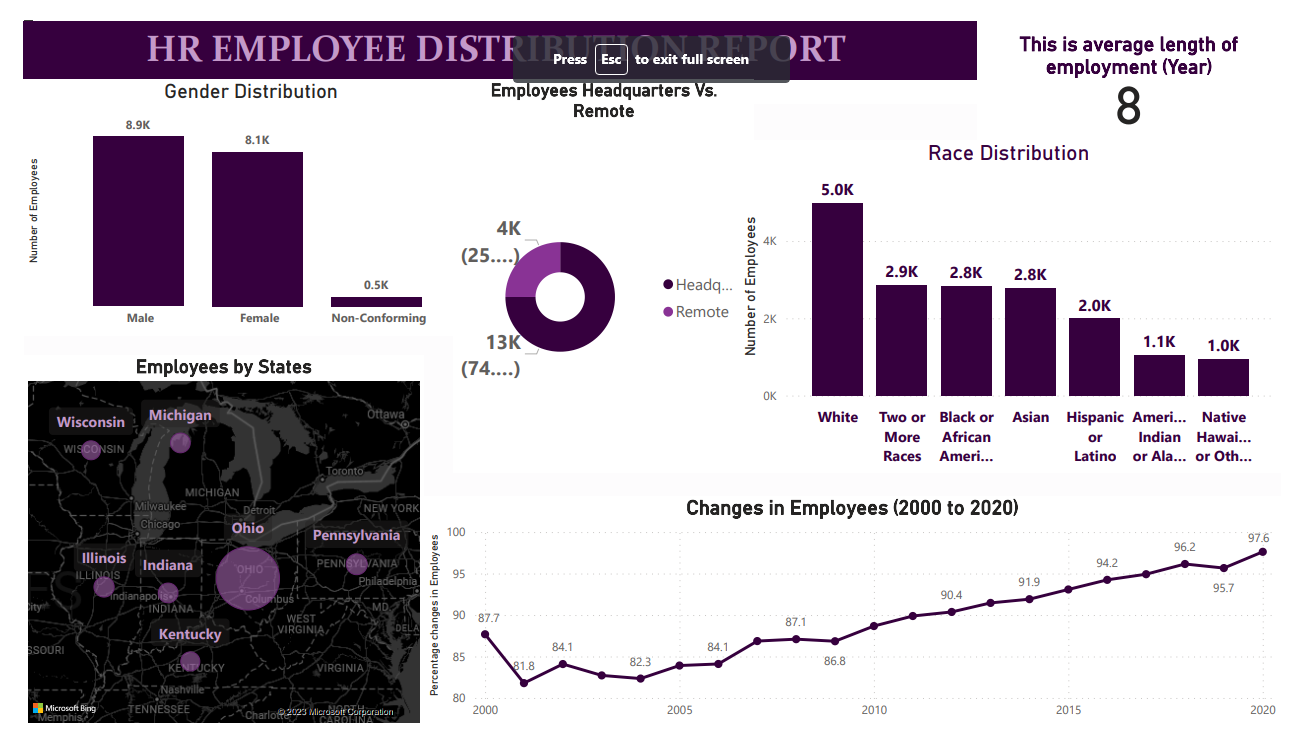

Layout of this report page (visuals, bound fields, positions):
{"tool":"powerbi","page":{"name":"Page 1","canvas":[1280,720],"ordinal":0},"visuals":[{"type":"textbox","box":[10.1,0,1270.4,84.8],"z":0},{"type":"textbox","box":[0,0,971,60],"z":1000},{"type":"card","title":"This is average length of employment (Year)","fields":{"Values":["Sum(avg_length_employment.avg_lengthof_employment)"]},"box":[971,12.4,309,109.5],"z":2000},{"type":"columnChart","title":"Gender Distribution","fields":{"Category":["gender.gender"],"Y":["Sum(gender.count)"]},"box":[0,60,464.3,261.3],"z":3000},{"type":"donutChart","title":"Employees Headquarters Vs. Remote","fields":{"Category":["location.location"],"Y":["Sum(location.count)"]},"box":[438.3,60.4,306.1,401],"z":4000},{"type":"lineChart","title":"Changes in Employees (2000 to 2020)","fields":{"Category":["termination_hire.year"],"Y":["Sum(termination_hire.net_change_percesnt)"]},"box":[407.8,483.8,872.2,236.6],"z":5000},{"type":"map","title":"Employees by States ","fields":{"Category":["location_state.location_state"],"Size":["Sum(location_state.count)"]},"box":[0,340.7,407.8,379.6],"z":6000},{"type":"clusteredColumnChart","title":"Race Distribution","fields":{"Category":["race.race"],"Y":["Sum(race.count)"]},"box":[727.2,122.2,553.3,339.2],"z":7000}]}

Visuals, with their boxes on the page's 1280x720 design canvas (x1, y1, x2, y2). These are canvas units, not pixel positions in the 1301x750 screenshot, which may show the page scaled, cropped or inside an application window:
textbox: <region>10, 0, 1280, 85</region>
textbox: <region>0, 0, 971, 60</region>
"This is average length of employment (Year)" card: <region>971, 12, 1280, 122</region>
"Gender Distribution" columnChart: <region>0, 60, 464, 321</region>
"Employees Headquarters Vs. Remote" donutChart: <region>438, 60, 744, 461</region>
"Changes in Employees (2000 to 2020)" lineChart: <region>408, 484, 1280, 720</region>
"Employees by States " map: <region>0, 341, 408, 720</region>
"Race Distribution" clusteredColumnChart: <region>727, 122, 1280, 461</region>
